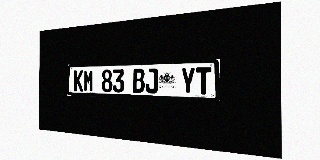3: (113, 69, 124, 92)
8: (102, 69, 112, 92)
B: (132, 68, 145, 93)
J: (145, 68, 158, 93)
K: (74, 70, 83, 91)
M: (83, 70, 93, 92)
T: (196, 67, 211, 95)
Y: (181, 67, 195, 94)
